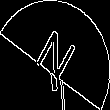N_SW: (29, 23, 81, 87)
